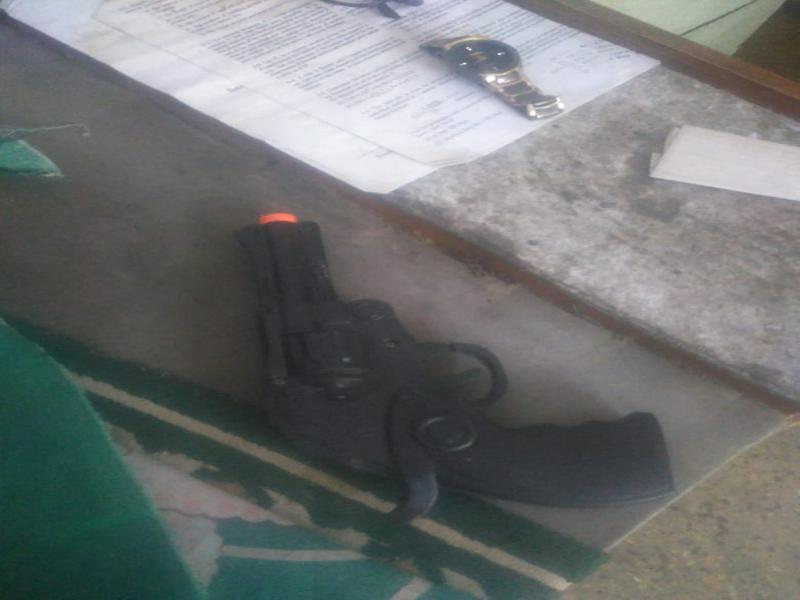gun: (208, 199, 690, 558)
